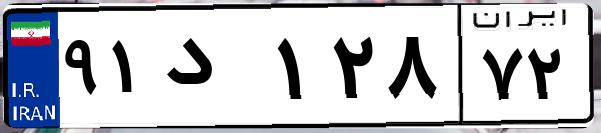1: (270, 28, 330, 110), (110, 28, 158, 98)
2: (330, 28, 385, 110), (525, 38, 570, 115)
7: (475, 38, 525, 113)
8: (385, 28, 445, 110)
9: (57, 26, 110, 100)
د: (158, 20, 270, 120)
